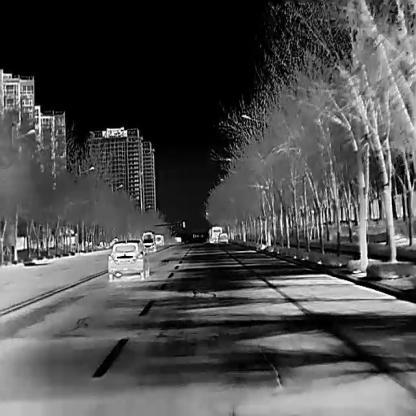car: (107, 238, 149, 280), (208, 225, 222, 241), (142, 230, 155, 244), (140, 238, 155, 250), (155, 232, 165, 245), (218, 231, 227, 242)
